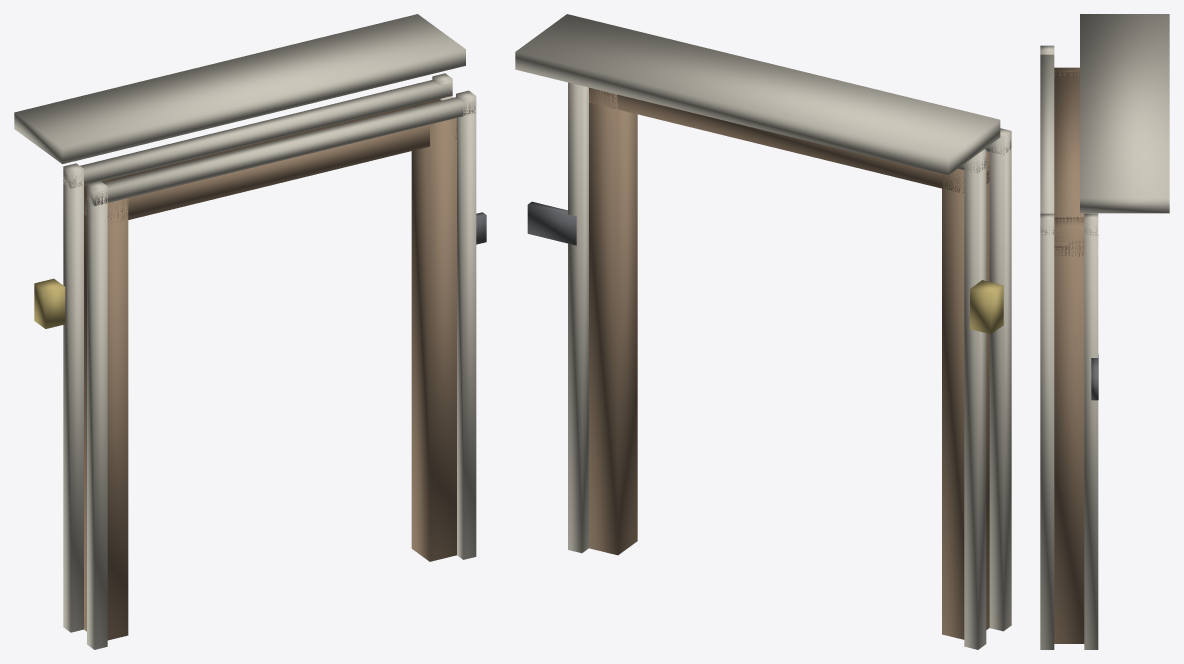
Rendered from doorway_motel_w152_h200_d16.glb.
The picture shows the model from 3 angles, left to right: view 1: azimuth 30°, elevation 25°; view 2: azimuth 150°, elevation 25°; view 3: azimuth 270°, elevation 25°; orthographic projection. The views are drawn at different scales.
Visible parts, largest first — view 1: world; view 2: world; view 3: world.
Boxes of the visible parts, x1=… form: world: x1=14, y1=14, x2=486, y2=649; world: x1=515, y1=14, x2=1011, y2=649; world: x1=1040, y1=14, x2=1169, y2=649.
Bounding box in the file's own units: 2.22 × 2.36 × 0.6058.
